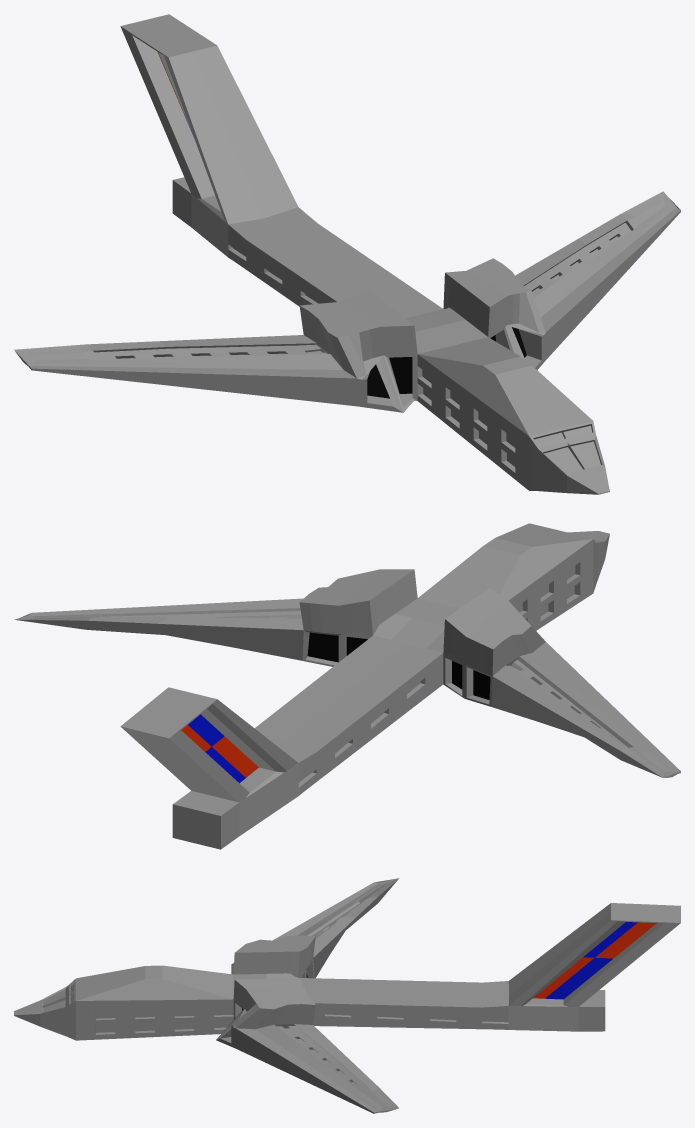
The model's file is flying_plane_1.fbx.
The picture shows the model from 3 angles, top to bottom: view 1: azimuth 30°, elevation 25°; view 2: azimuth 150°, elevation 25°; view 3: azimuth 270°, elevation 25°; orthographic projection. The views are drawn at different scales.
Parts seen in each view (by area): view 1: Cube; view 2: Cube; view 3: Cube.
Boxes of the visible parts, x1=… form: Cube: x1=14, y1=14, x2=680, y2=494; Cube: x1=14, y1=523, x2=680, y2=849; Cube: x1=14, y1=878, x2=680, y2=1113.
Size of the model in its own units: 54.05 by 13.19 by 66.23.
